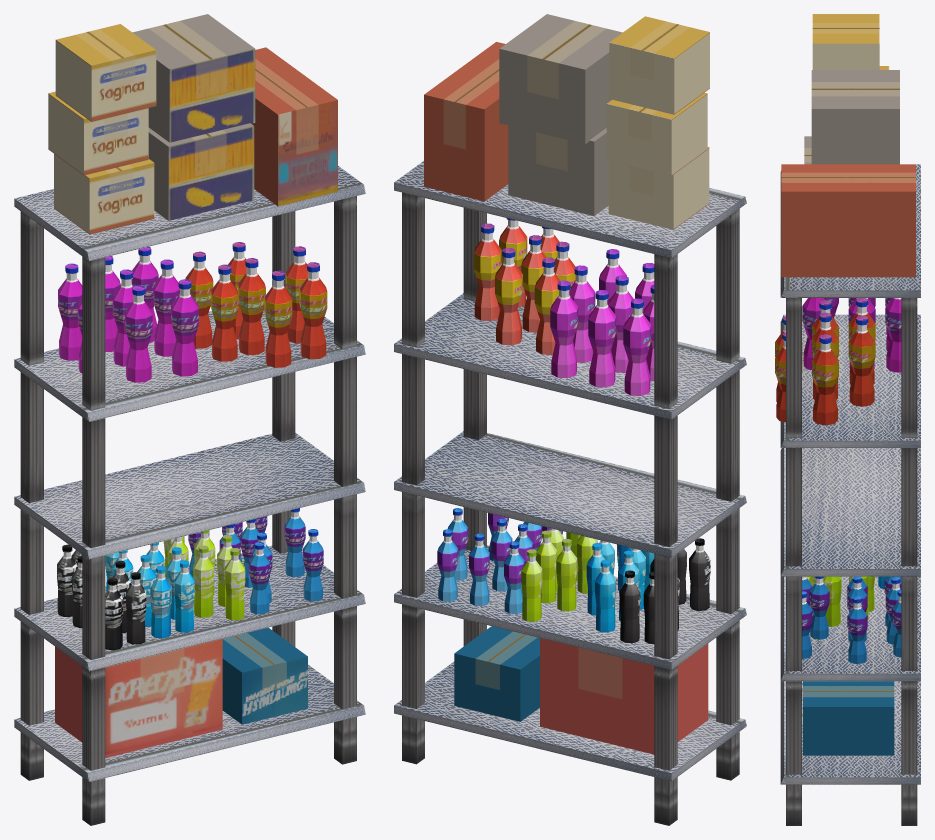
File: plastic bottle shelf 3.FBX
The picture shows the model from 3 angles, left to right: view 1: azimuth 30°, elevation 25°; view 2: azimuth 150°, elevation 25°; view 3: azimuth 270°, elevation 25°; orthographic projection. The views are drawn at different scales.
Visible parts, largest first — view 1: 板架012, 紙箱010, 腳架010, 腳架011, 腳架008, 紙箱019, 紙箱018, 板架013, 板架011, 板架010, 紙箱017, 紙箱016 (+33 smaller); view 2: 板架012, 紙箱010, 腳架008, 板架013, 紙箱019, 腳架009, 腳架010, 紙箱018, 板架011, 板架010, 板架014, 紙箱016 (+31 smaller); view 3: 紙箱018, 板架012, 紙箱019, 腳架009, 板架013, 腳架011, 紙箱011, 板架011, 板架010, 紙箱016, 板架014, 礦泉水279 (+15 smaller).
Boxes of the visible parts, bbox=[...] form: 板架012: bbox=[14, 433, 365, 559]; 紙箱010: bbox=[55, 639, 222, 757]; 腳架010: bbox=[82, 256, 105, 825]; 腳架011: bbox=[334, 196, 356, 764]; 腳架008: bbox=[20, 211, 43, 780]; 紙箱019: bbox=[132, 14, 255, 142]; 紙箱018: bbox=[251, 47, 337, 206]; 板架013: bbox=[14, 309, 365, 421]; 板架011: bbox=[14, 545, 365, 671]; 板架010: bbox=[14, 664, 365, 781]; 紙箱017: bbox=[148, 123, 254, 220]; 紙箱016: bbox=[55, 24, 156, 121]; 板架012: bbox=[394, 431, 746, 557]; 紙箱010: bbox=[540, 638, 708, 754]; 腳架008: bbox=[654, 254, 677, 825]; 板架013: bbox=[394, 293, 746, 419]; 紙箱019: bbox=[499, 14, 622, 144]; 腳架009: bbox=[402, 192, 424, 764]; 腳架010: bbox=[716, 209, 739, 780]; 紙箱018: bbox=[424, 42, 508, 201]; 板架011: bbox=[394, 545, 746, 669]; 板架010: bbox=[394, 661, 746, 781]; 板架014: bbox=[394, 161, 746, 258]; 紙箱016: bbox=[609, 16, 709, 114]; 紙箱018: bbox=[781, 164, 915, 277]; 板架012: bbox=[780, 448, 920, 576]; 紙箱019: bbox=[811, 70, 899, 164]; 腳架009: bbox=[901, 298, 917, 825]; 板架013: bbox=[780, 314, 920, 447]; 腳架011: bbox=[786, 298, 801, 825]; 紙箱011: bbox=[803, 681, 894, 755]; 板架011: bbox=[780, 576, 920, 681]; 板架010: bbox=[780, 681, 920, 784]; 紙箱016: bbox=[812, 14, 879, 69]; 板架014: bbox=[780, 164, 920, 297]; 礦泉水279: bbox=[848, 315, 875, 406].
Size of the model in its own units: 565 by 1456 by 276.
13 materials, 13 textured.
